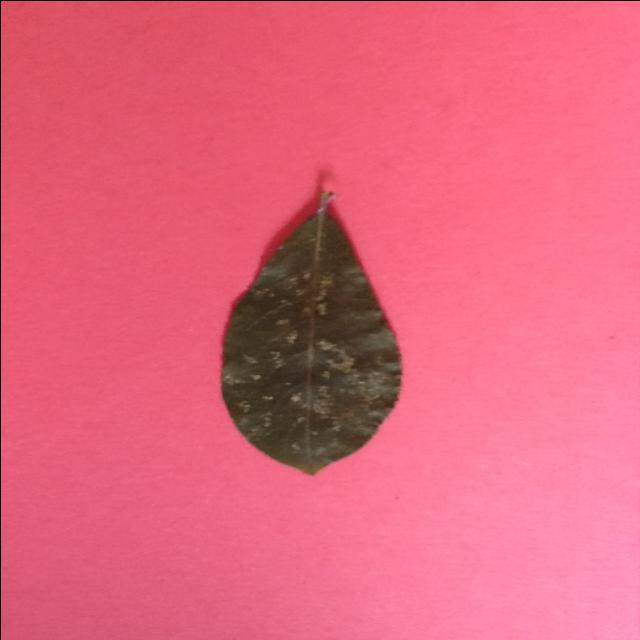foliage: (218, 182, 404, 479)
